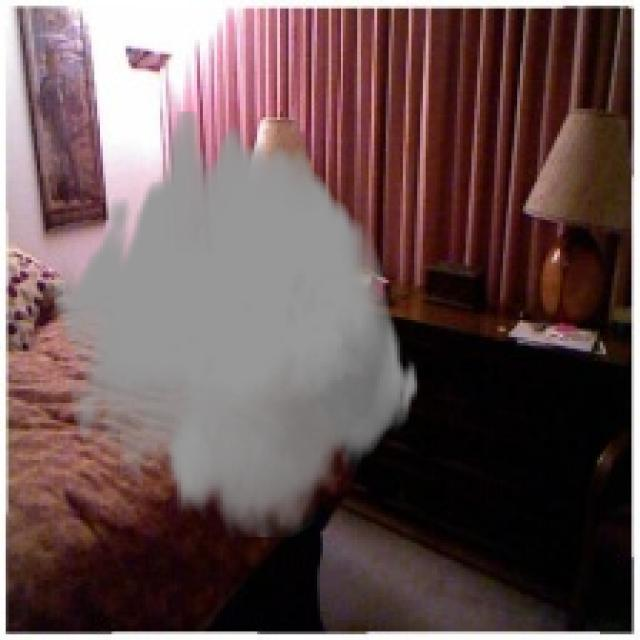Smoke: (51, 112, 420, 537)
